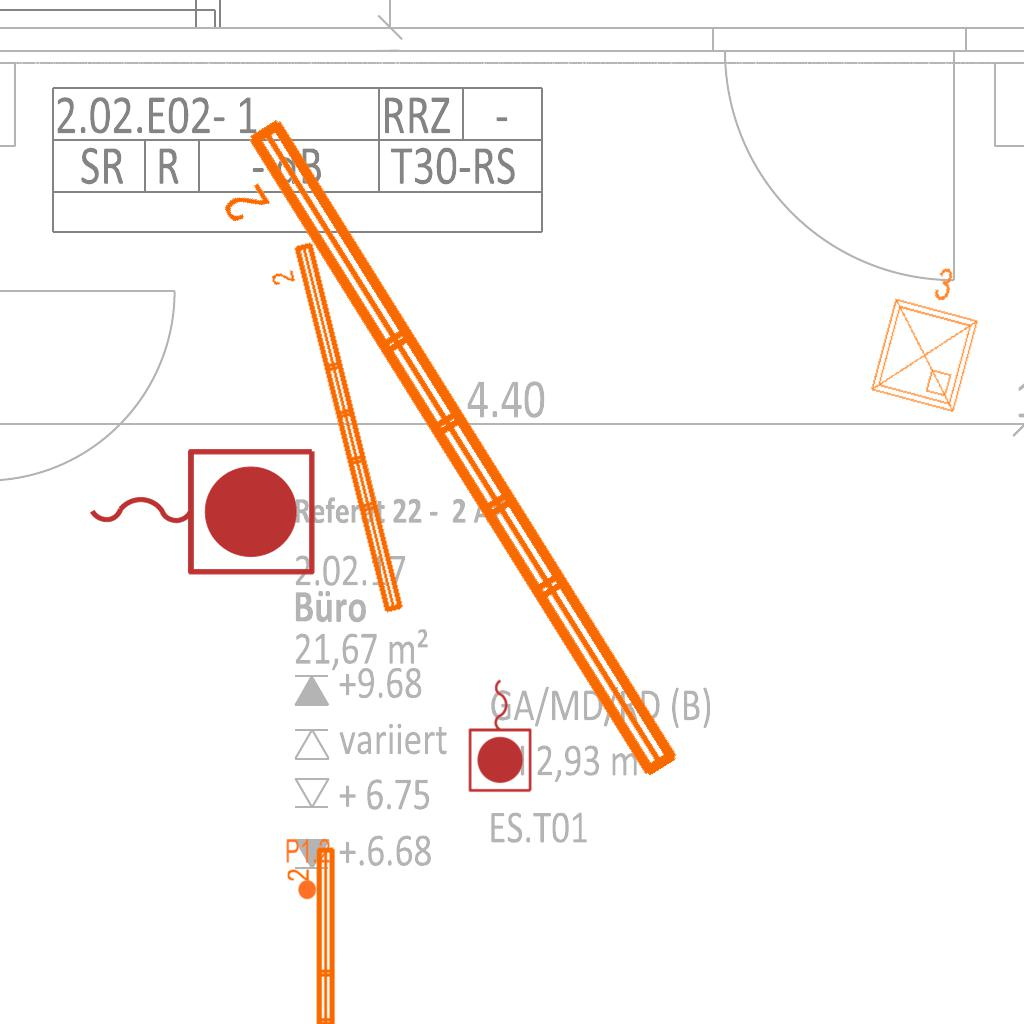Ambulanz_Pendelleuchte_LED: (189, 104, 695, 820), (262, 236, 411, 626), (285, 843, 341, 1024)
Downlight_LED_Einbauleuchten_Flur: (285, 837, 331, 901)
Einbaudownlights_LED_Konferenzraeume: (858, 249, 998, 421)
Zugtaster: (79, 438, 323, 582), (465, 674, 537, 796)
